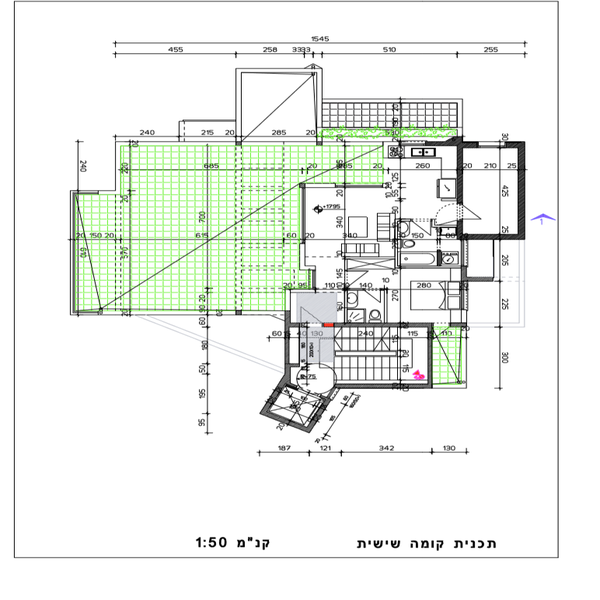door: (433, 196, 458, 226)
room: (299, 177, 473, 325), (282, 313, 473, 387), (453, 131, 529, 243)
wall: (321, 319, 433, 331), (336, 380, 434, 393), (516, 143, 527, 241), (283, 311, 295, 384), (455, 137, 467, 204), (458, 232, 519, 244), (332, 181, 386, 193), (428, 327, 437, 389)
window: (477, 136, 507, 151), (457, 281, 470, 313)
